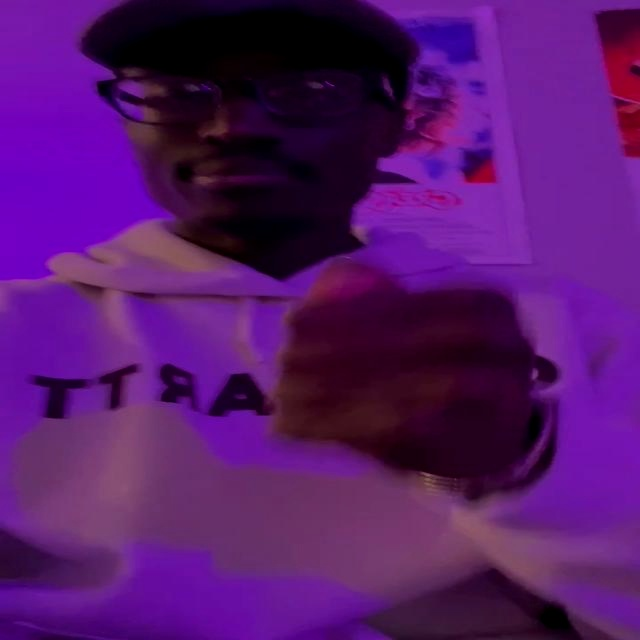Rock: (278, 266, 541, 473)
